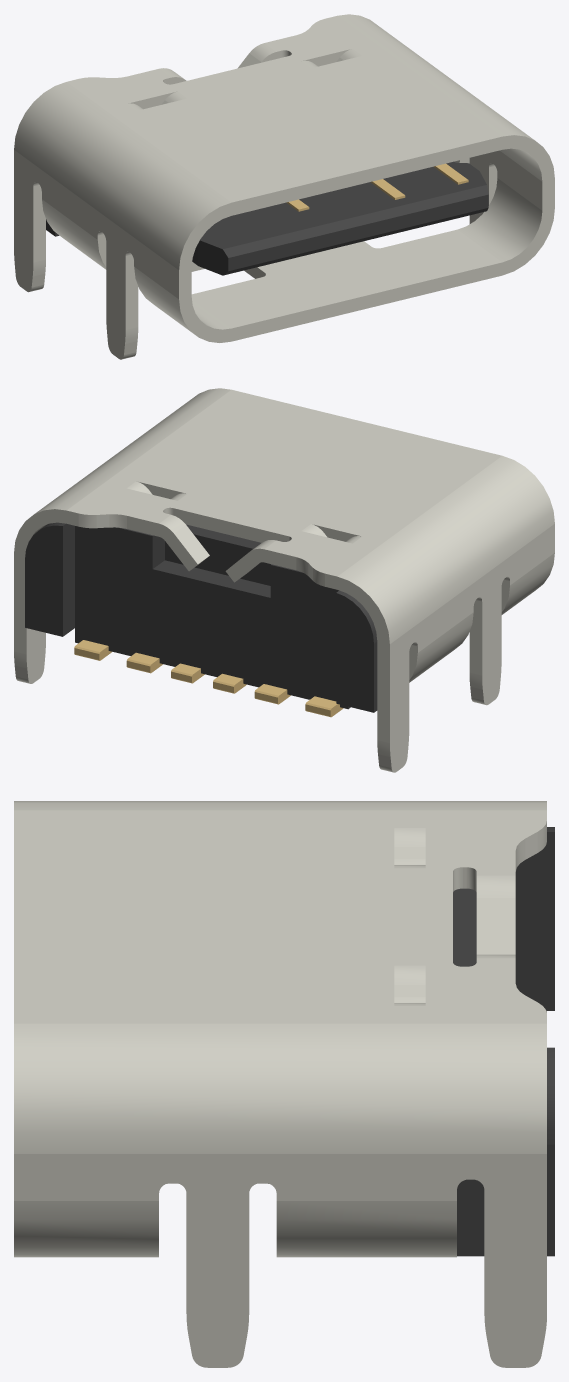
The model's file is kc-usb_c_receptacle_gct_usb4125-xx-x_6p_topmnt_horizontal.glb.
3 renders of one model, top to bottom at view 1: azimuth 30°, elevation 25°; view 2: azimuth 150°, elevation 25°; view 3: azimuth 270°, elevation 25°, orthographic. The views are drawn at different scales.
Visible parts, largest first — view 1: 0.6666666666666666_0.6666666666666666_0.5833333333333334_0.8, 0.08333333333333333_0.08333333333333333_0.08333333333333333_, 0.75_0.5_0.25_0.9; view 2: 0.6666666666666666_0.6666666666666666_0.5833333333333334_0.8, 0.08333333333333333_0.08333333333333333_0.08333333333333333_, 0.75_0.5_0.25_0.9; view 3: 0.6666666666666666_0.6666666666666666_0.5833333333333334_0.8, 0.08333333333333333_0.08333333333333333_0.08333333333333333_.
Part boxes in pixels (x1,y1,x2,y2): 0.6666666666666666_0.6666666666666666_0.5833333333333334_0.8: (14,14,554,359); 0.08333333333333333_0.08333333333333333_0.08333333333333333_: (46,161,488,275); 0.75_0.5_0.25_0.9: (286,163,468,211); 0.6666666666666666_0.6666666666666666_0.5833333333333334_0.8: (14,388,554,772); 0.08333333333333333_0.08333333333333333_0.08333333333333333_: (25,522,377,712); 0.75_0.5_0.25_0.9: (74,640,343,717); 0.6666666666666666_0.6666666666666666_0.5833333333333334_0.8: (14,801,546,1367); 0.08333333333333333_0.08333333333333333_0.08333333333333333_: (453,827,554,1256).
Size of the model in its own units: 0.894 by 0.426 by 0.69.
